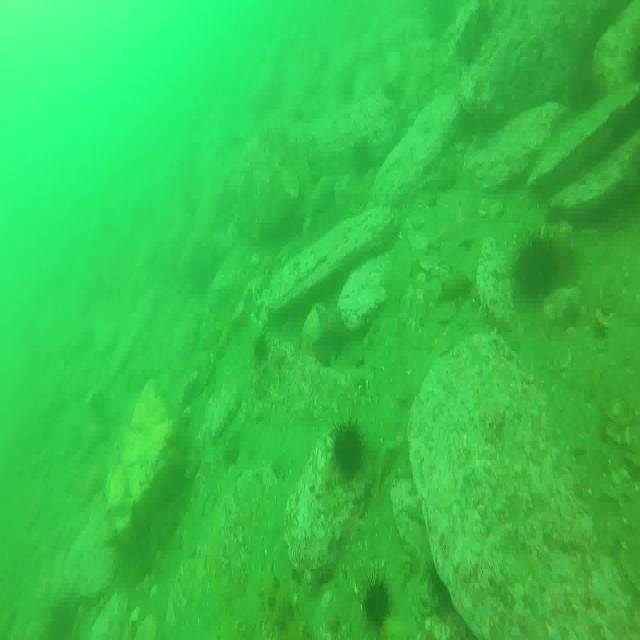echinus: (520, 227, 560, 302), (334, 422, 365, 482), (365, 574, 392, 628)
holothurian: (256, 562, 311, 640)
starfish: (313, 306, 350, 364)
